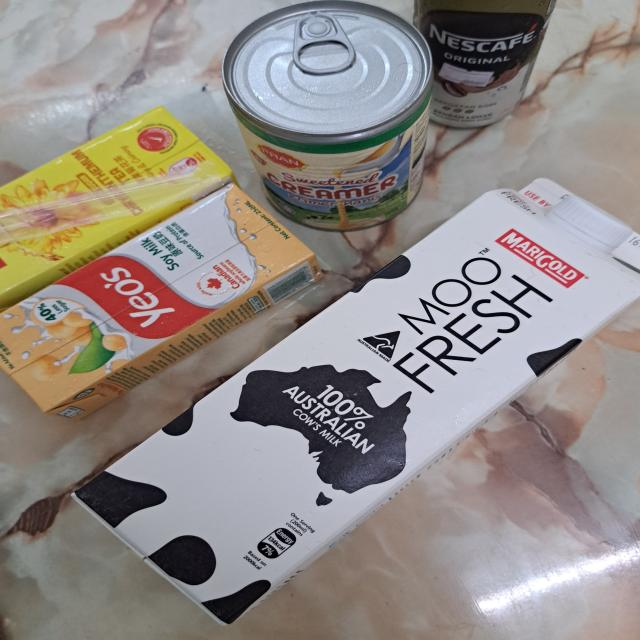can: (222, 2, 434, 229), (414, 0, 559, 129)
drink carton: (69, 177, 640, 625), (2, 105, 236, 308)
plastic bottle cap: (549, 191, 635, 253)
pop tab: (290, 9, 358, 74)
